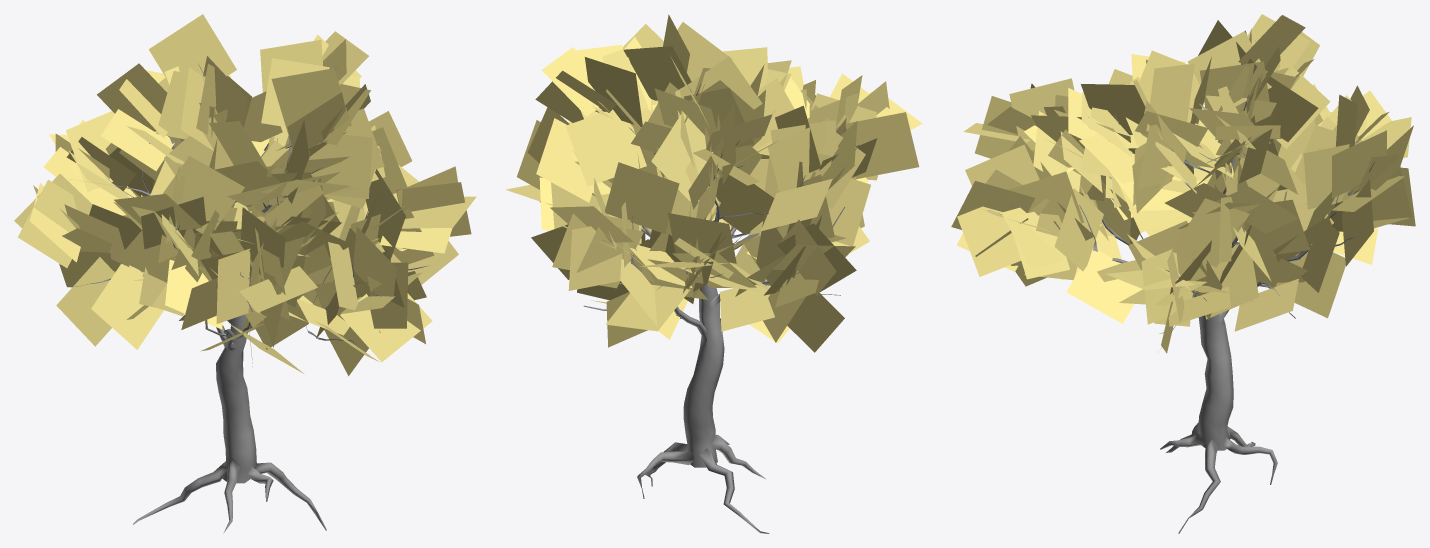
Rendered from tree_02_LOD2.FBX.
3 renders of one model, left to right at view 1: azimuth 30°, elevation 25°; view 2: azimuth 150°, elevation 25°; view 3: azimuth 270°, elevation 25°, orthographic. The views are drawn at different scales.
Parts seen in each view (by area): view 1: Tree_02_LOD2; view 2: Tree_02_LOD2; view 3: Tree_02_LOD2.
Boxes of the visible parts, bbox=[...] form: Tree_02_LOD2: bbox=[14, 14, 476, 533]; Tree_02_LOD2: bbox=[506, 14, 922, 533]; Tree_02_LOD2: bbox=[951, 14, 1415, 533].
Bounding box in the file's own units: 8.3 × 9.92 × 8.6.
